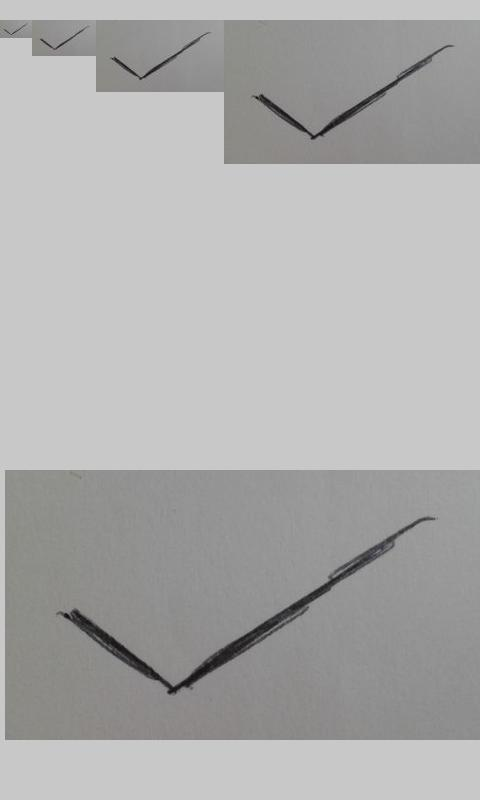check_box: (62, 519, 423, 696), (254, 44, 454, 140), (110, 32, 210, 81), (39, 25, 88, 51), (3, 23, 27, 36)
